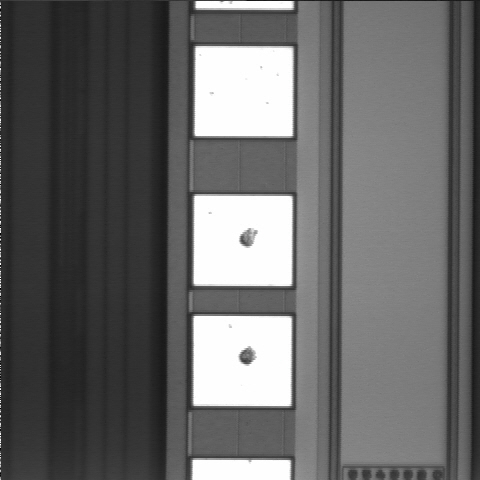pad: (193, 316, 292, 406), (195, 46, 293, 136), (194, 196, 292, 286)
